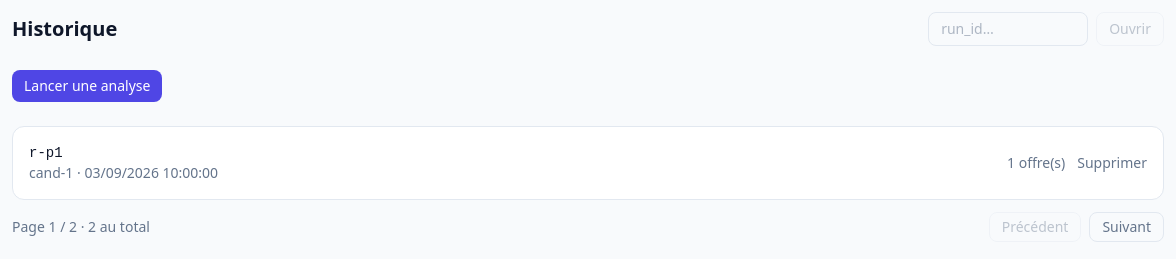
Test: RunsListPage › navigue vers la page suivante au clic sur « Suivant »
Expected: the text "r-p1" is shown, [29,145,63,161]
Expected: the button "Précédent" is disabled, [989,212,1081,242]
Click the button "Suivant".
click(1127, 227)  # box [1089,212,1164,242]
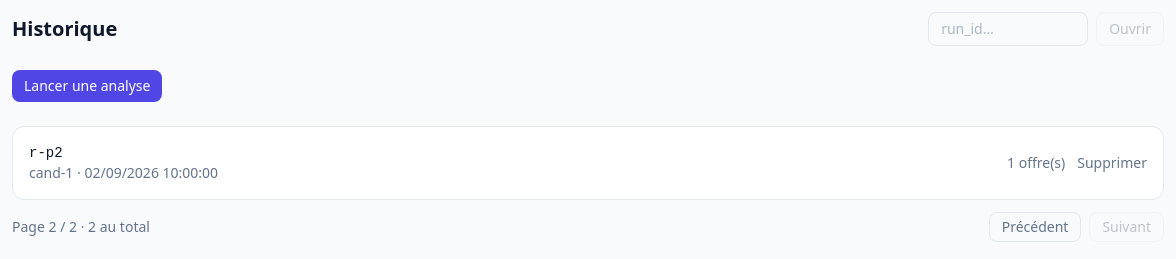
Now the text "r-p2" is shown, box [29,145,63,161]
Now the button "Suivant" is disabled, box [1089,212,1164,242]
